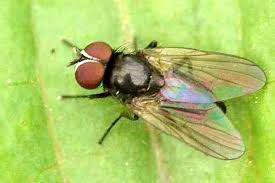house fly: (51, 35, 269, 164)
